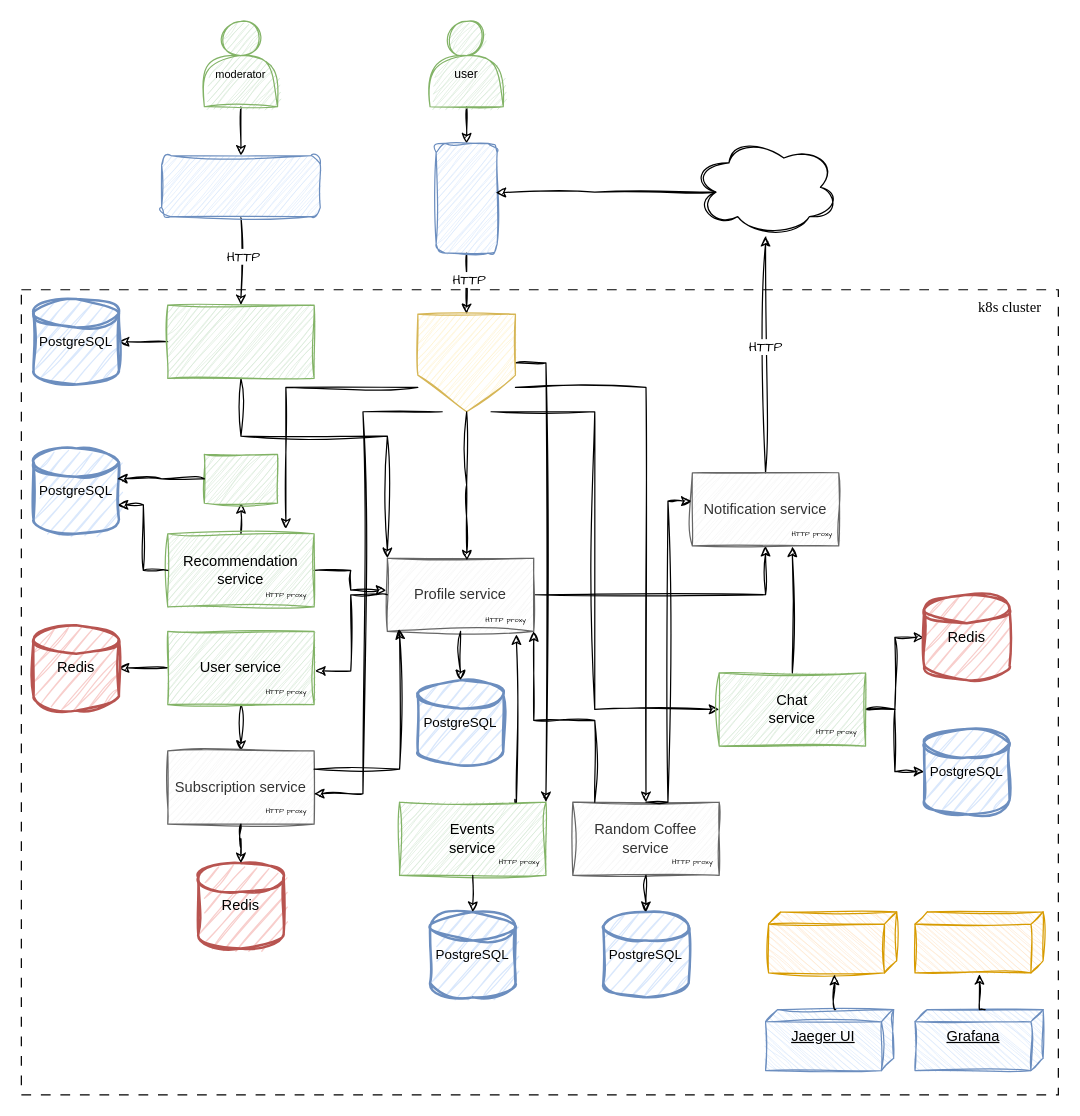
The diagram is 1080 pixels wide and 1116 high, and some of its shapes have lost their labels. The centre of each missing label's shape, as x and y in pixels:
Admin panel UI: the point at 240,185
Administration service: the point at 240,341
API Gateway: the point at 466,362
Apple services: the point at 765,186
iOS app: the point at 466,197
Jaeger: the point at 832,942
Oracle service: the point at 240,478
Prometheus: the point at 978,942
